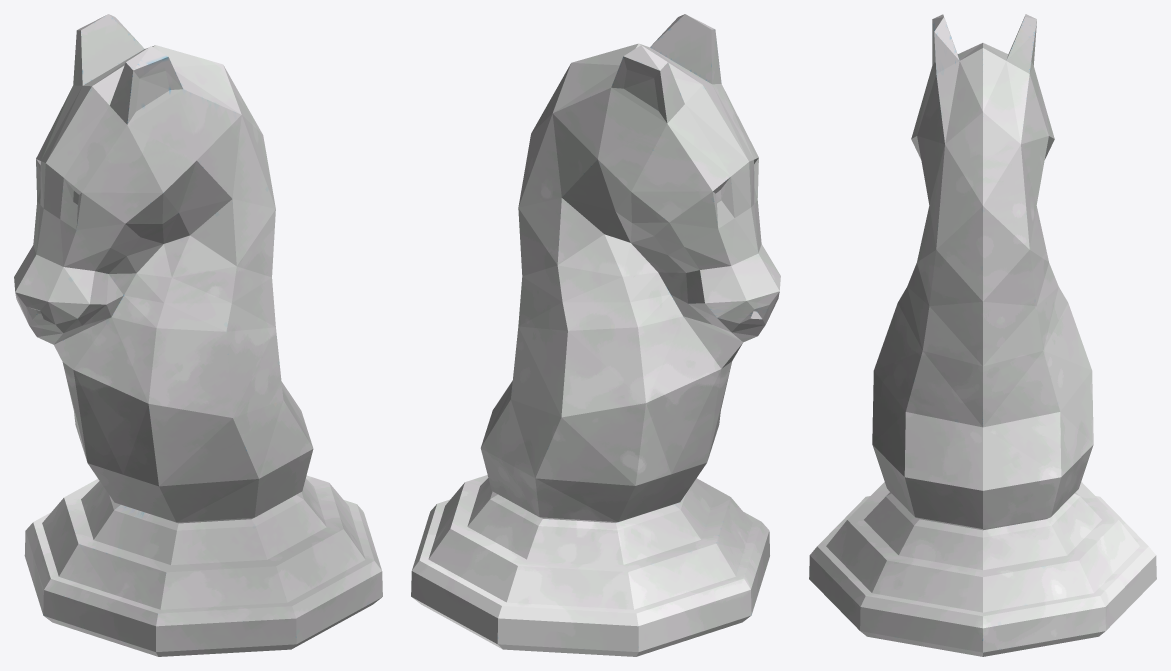
File: Knight.fbx
The picture shows the model from 3 angles, left to right: view 1: azimuth 30°, elevation 25°; view 2: azimuth 150°, elevation 25°; view 3: azimuth 270°, elevation 25°; orthographic projection. The views are drawn at different scales.
Parts seen in each view (by area): view 1: node_id36; view 2: node_id36; view 3: node_id36.
Part boxes in pixels (x1,y1,x2,y2): node_id36: (14, 14, 382, 656); node_id36: (411, 14, 780, 656); node_id36: (809, 14, 1156, 656).
Size of the model in its own units: 249 by 390 by 229.
